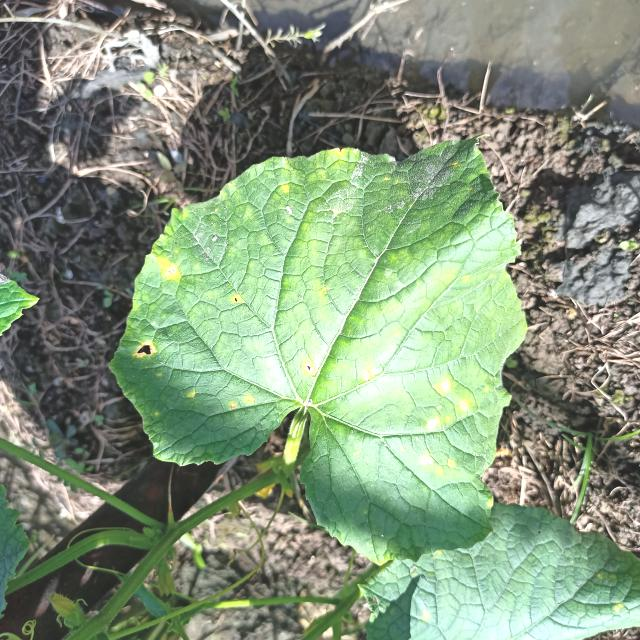disease_cucumber: (421, 374, 473, 478), (153, 254, 183, 281), (227, 391, 260, 410), (135, 339, 159, 359), (302, 360, 318, 376), (362, 370, 372, 383), (232, 294, 241, 304)
